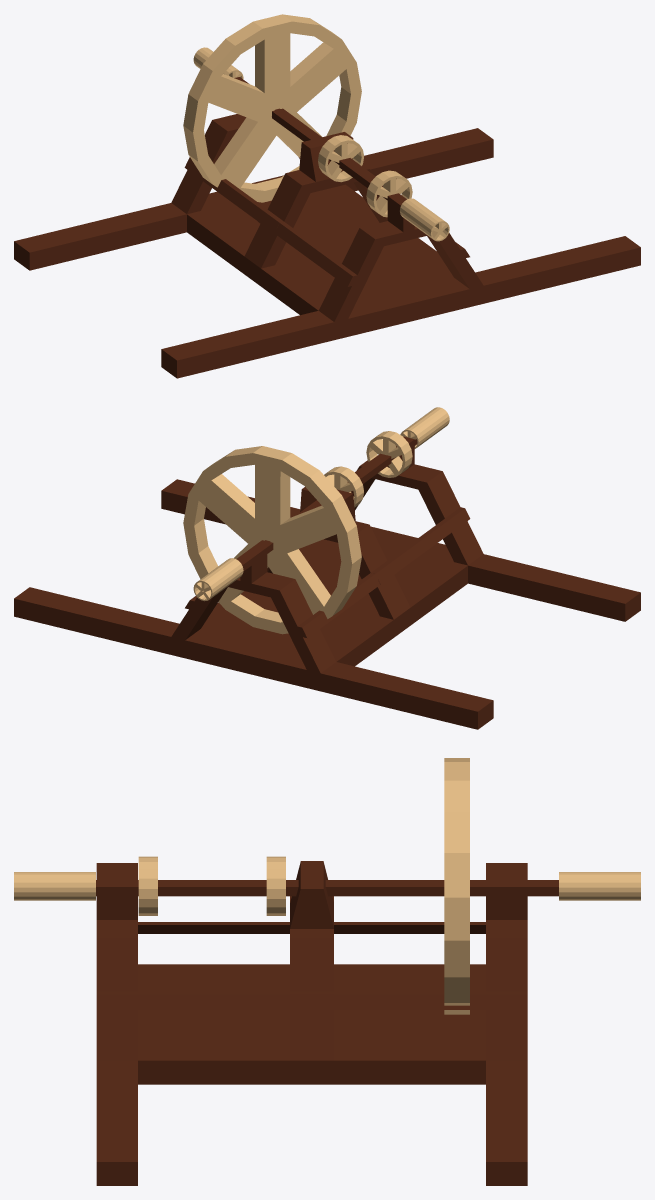
Rendered from MachineThingyDayag.fbx.
3 views of the same model, one above another, from view 1: azimuth 30°, elevation 25°; view 2: azimuth 150°, elevation 25°; view 3: azimuth 270°, elevation 25° (orthographic). The views are drawn at different scales.
Visible parts, largest first — view 1: Cube, Circle, Circle.003, Circle.001, Circle.002; view 2: Cube, Circle, Circle.003, Circle.002, Circle.001; view 3: Cube, Circle, Circle.003, Circle.001, Circle.002.
Part boxes in pixels (left/top/right/bottom): Cube: left=14, top=77, right=640, bottom=378; Circle: left=183, top=14, right=361, bottom=202; Circle.003: left=193, top=47, right=449, bottom=241; Circle.001: left=318, top=135, right=363, bottom=182; Circle.002: left=366, top=170, right=412, bottom=217; Cube: left=14, top=436, right=640, bottom=729; Circle: left=183, top=446, right=361, bottom=634; Circle.003: left=193, top=407, right=449, bottom=601; Circle.002: left=366, top=431, right=412, bottom=477; Circle.001: left=324, top=466, right=363, bottom=507; Cube: left=96, top=861, right=558, bottom=1185; Circle: left=444, top=758, right=469, bottom=1014; Circle.003: left=14, top=872, right=640, bottom=900; Circle.001: left=266, top=856, right=285, bottom=915; Circle.002: left=138, top=856, right=157, bottom=915.
Bounding box in the file's own units: 600 × 248 × 531.
